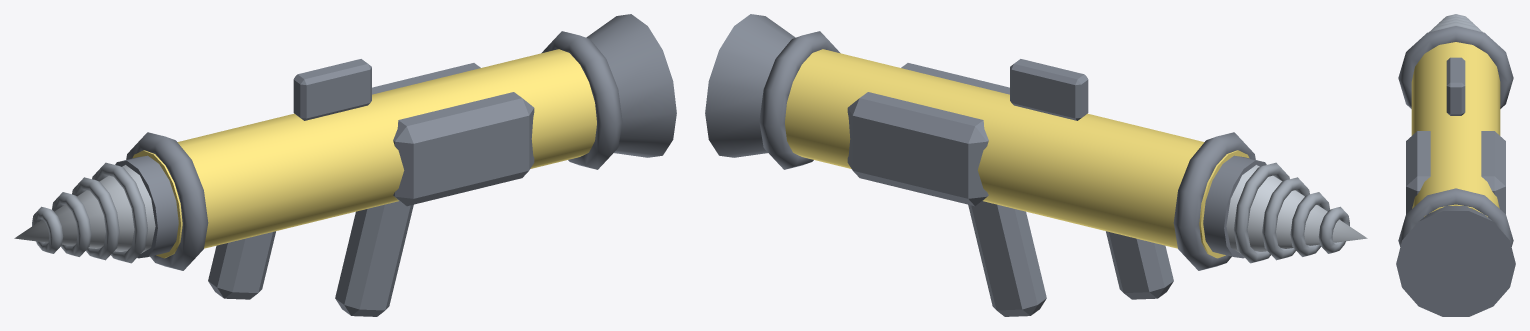
Rendered from Drill.fbx.
3 renders of one model, left to right at view 1: azimuth 30°, elevation 25°; view 2: azimuth 150°, elevation 25°; view 3: azimuth 270°, elevation 25°, orthographic. The views are drawn at different scales.
Parts seen in each view (by area): view 1: Drill; view 2: Drill; view 3: Drill.
Part boxes in pixels (bbox=[...]): Drill: bbox=[14, 14, 676, 316]; Drill: bbox=[705, 14, 1367, 316]; Drill: bbox=[1396, 14, 1515, 316].
Size of the model in its own units: 1.57 by 0.6098 by 0.324.
